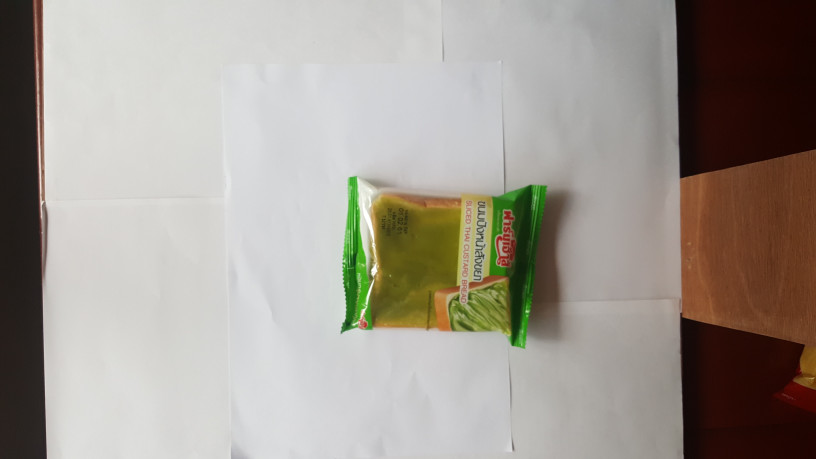farmhouse-bread-pandan: (338, 167, 552, 354)
